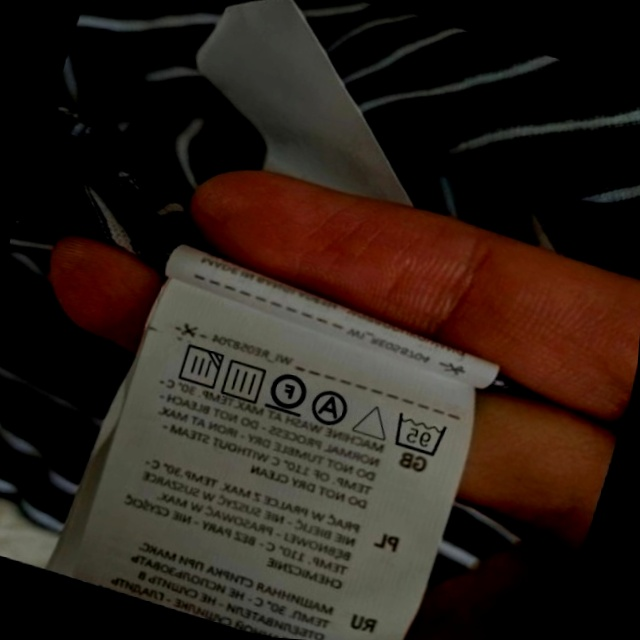95C: (385, 406, 452, 461)
bleach: (350, 395, 396, 446)
drip_dry: (216, 353, 272, 407)
drip_dry_in_shade: (170, 338, 227, 394)
dry_clean: (307, 384, 355, 431)
dry_clean_petrol_only: (262, 363, 314, 420)
